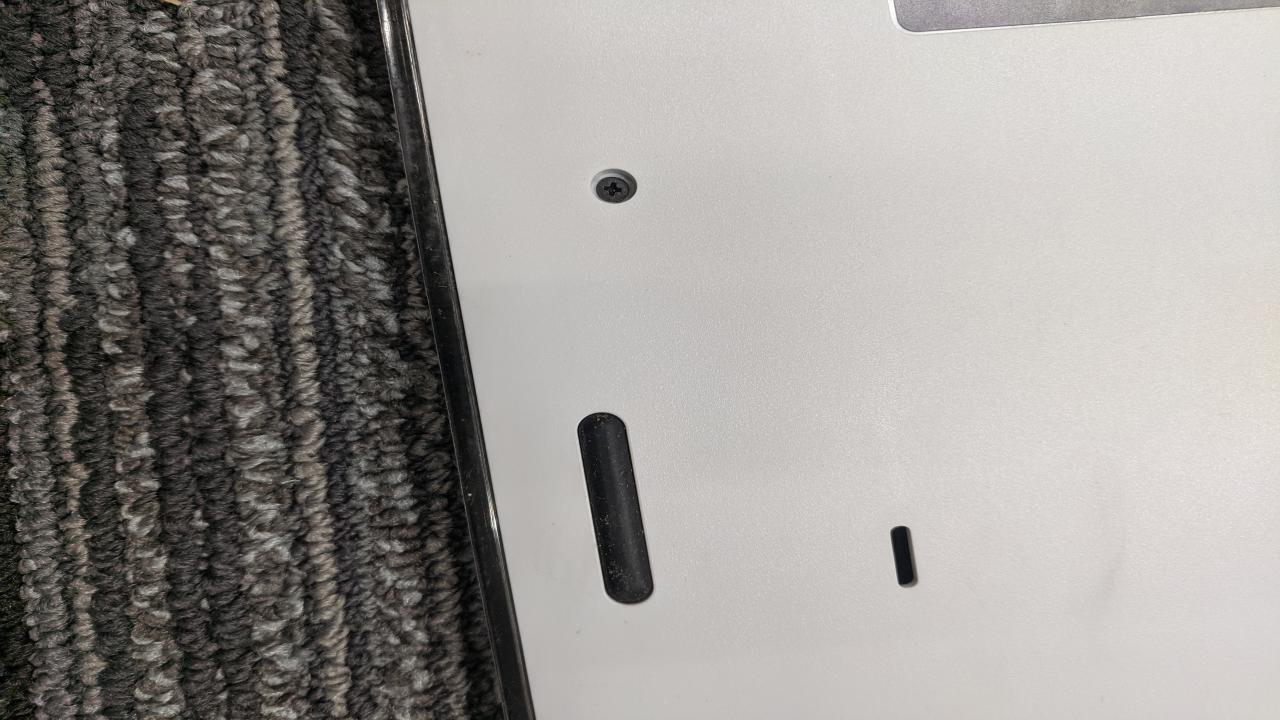CRS: (592, 174, 636, 205)
